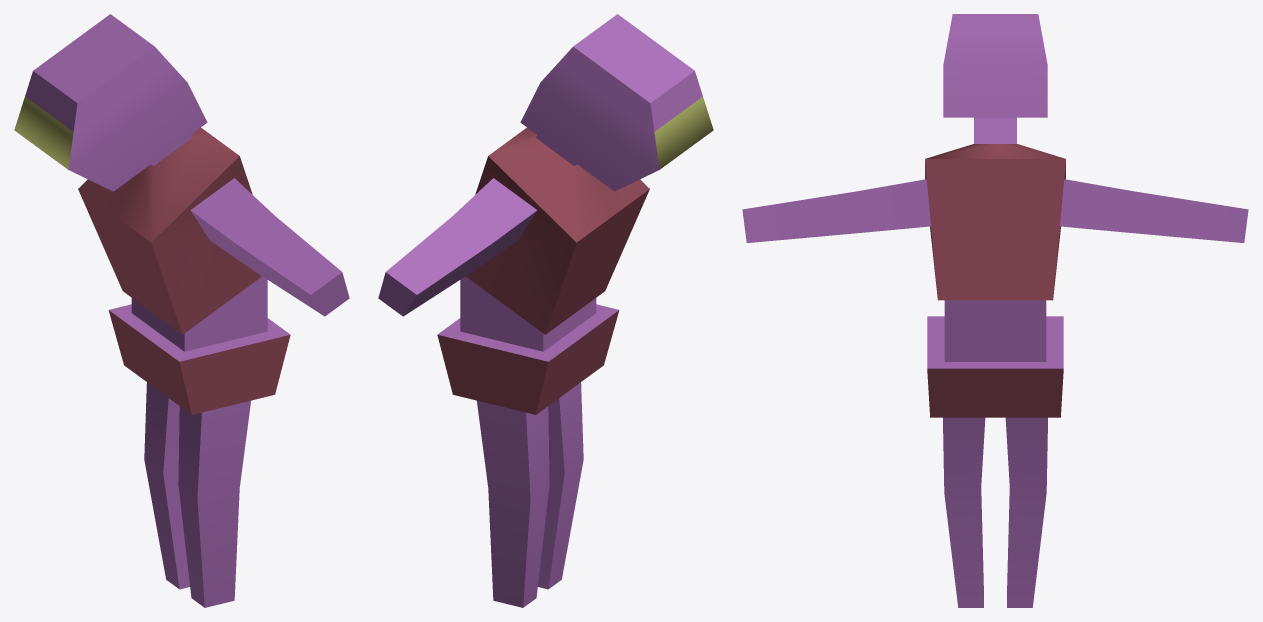
The model's file is prota.fbx.
The picture shows the model from 3 angles, left to right: view 1: azimuth 30°, elevation 25°; view 2: azimuth 150°, elevation 25°; view 3: azimuth 270°, elevation 25°; orthographic projection. The views are drawn at different scales.
Parts seen in each view (by area): view 1: pCube1; view 2: pCube1; view 3: pCube1.
Part boxes in pixels (bbox=[...]): pCube1: bbox=[14, 14, 349, 607]; pCube1: bbox=[378, 14, 713, 607]; pCube1: bbox=[742, 14, 1248, 607].
Size of the model in its own units: 32.06 by 82.58 by 68.25.
